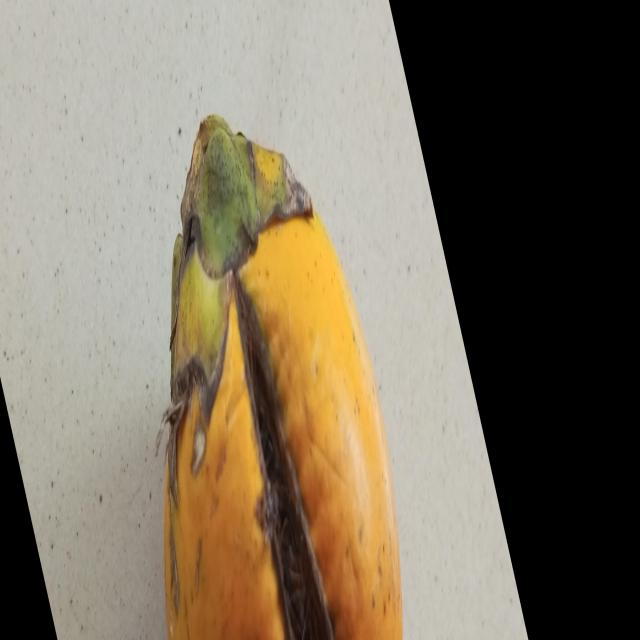damaged: (161, 116, 403, 640)
